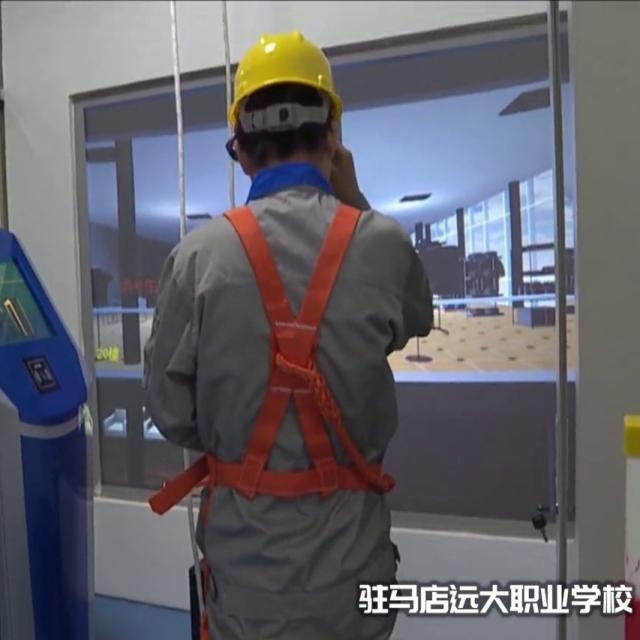Arnes_seguridad: (191, 181, 411, 515)
